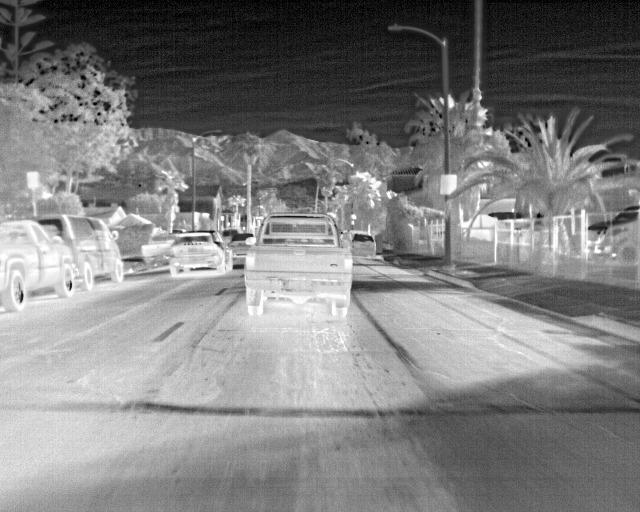car: (243, 212, 353, 316), (0, 219, 75, 313), (36, 213, 125, 292), (587, 204, 639, 268), (168, 229, 234, 277), (141, 232, 180, 269), (348, 233, 376, 259), (229, 233, 256, 256), (342, 230, 367, 249), (222, 227, 244, 245)
light: (257, 220, 261, 226)
sign: (440, 174, 457, 195), (27, 171, 39, 189), (166, 212, 176, 221), (351, 214, 356, 219), (256, 217, 264, 219), (351, 221, 354, 225), (253, 226, 259, 228)
